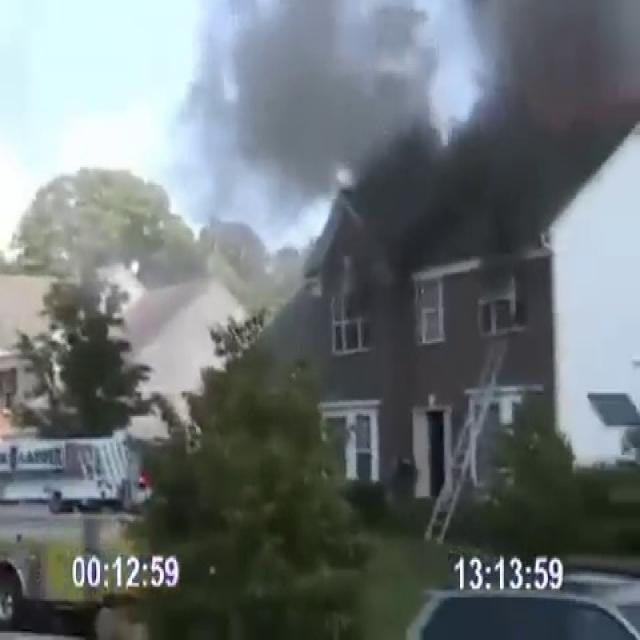Smoke: (200, 0, 640, 311)
